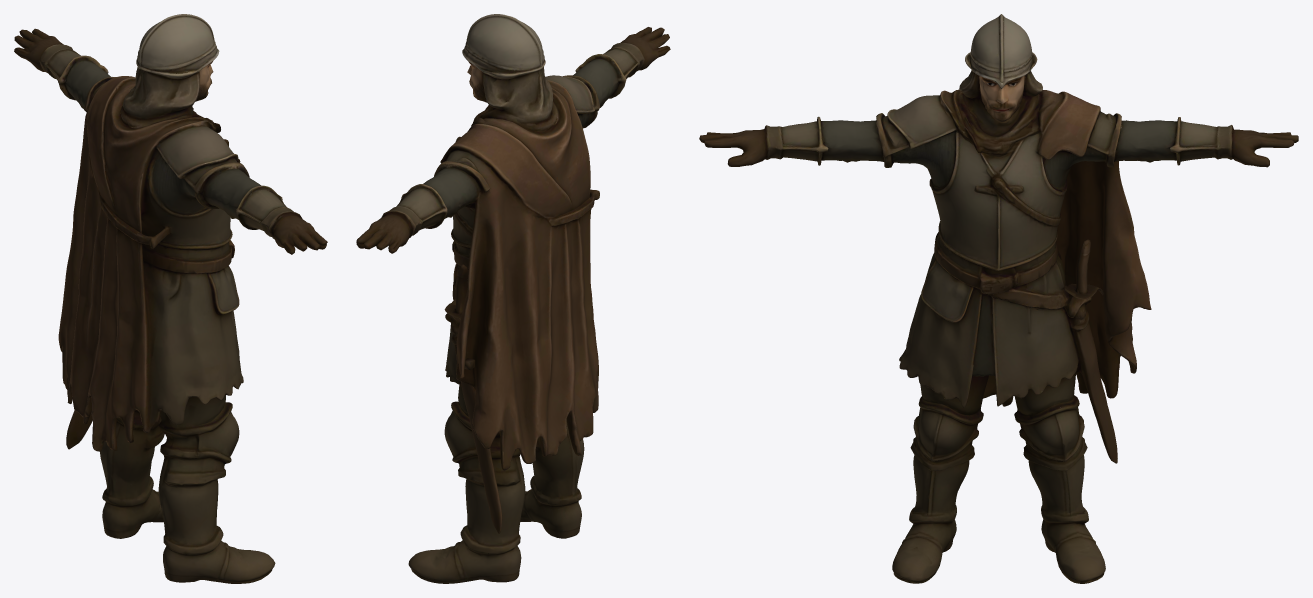
The model's file is import_ec8e948a.glb.
The picture shows the model from 3 angles, left to right: view 1: azimuth 30°, elevation 25°; view 2: azimuth 150°, elevation 25°; view 3: azimuth 270°, elevation 25°; orthographic projection.
Parts seen in each view (by area): view 1: tripo_node_f64d6b0c-5865-442e-9a98-c00f6f192276; view 2: tripo_node_f64d6b0c-5865-442e-9a98-c00f6f192276; view 3: tripo_node_f64d6b0c-5865-442e-9a98-c00f6f192276.
Part boxes in pixels (<box>): tripo_node_f64d6b0c-5865-442e-9a98-c00f6f192276: <box>14,14,327,583</box>; tripo_node_f64d6b0c-5865-442e-9a98-c00f6f192276: <box>356,14,670,583</box>; tripo_node_f64d6b0c-5865-442e-9a98-c00f6f192276: <box>699,14,1298,583</box>.
Bounding box in the file's own units: 0.2612 × 1 × 0.9997.
1 material, 1 textured.
